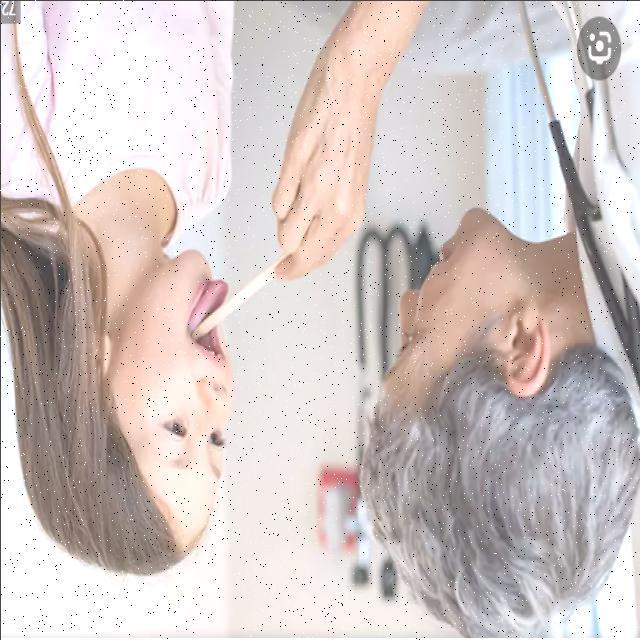face_no_mask: (90, 249, 235, 532)
